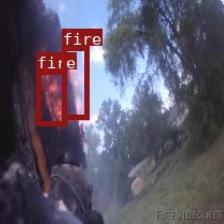fire: (61, 45, 88, 118), (36, 69, 65, 125)
